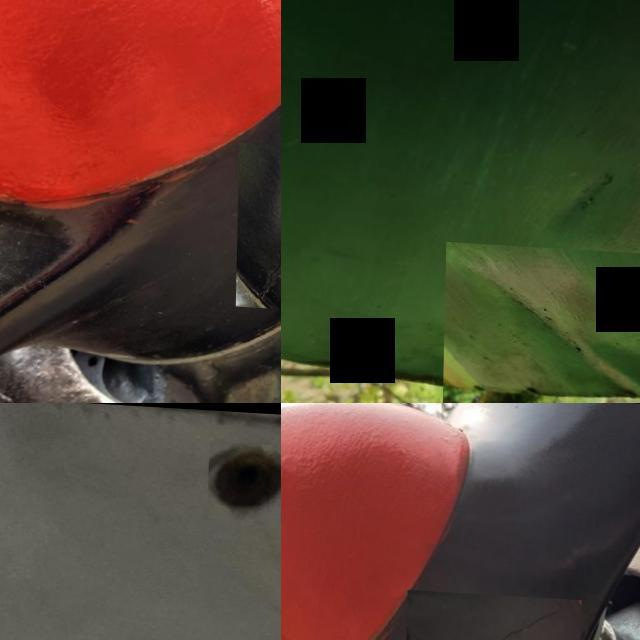Crack: (406, 587, 582, 640), (237, 139, 281, 307)
Dent: (444, 239, 640, 403), (531, 138, 638, 240)
Missing_Fastener: (208, 437, 281, 518)
